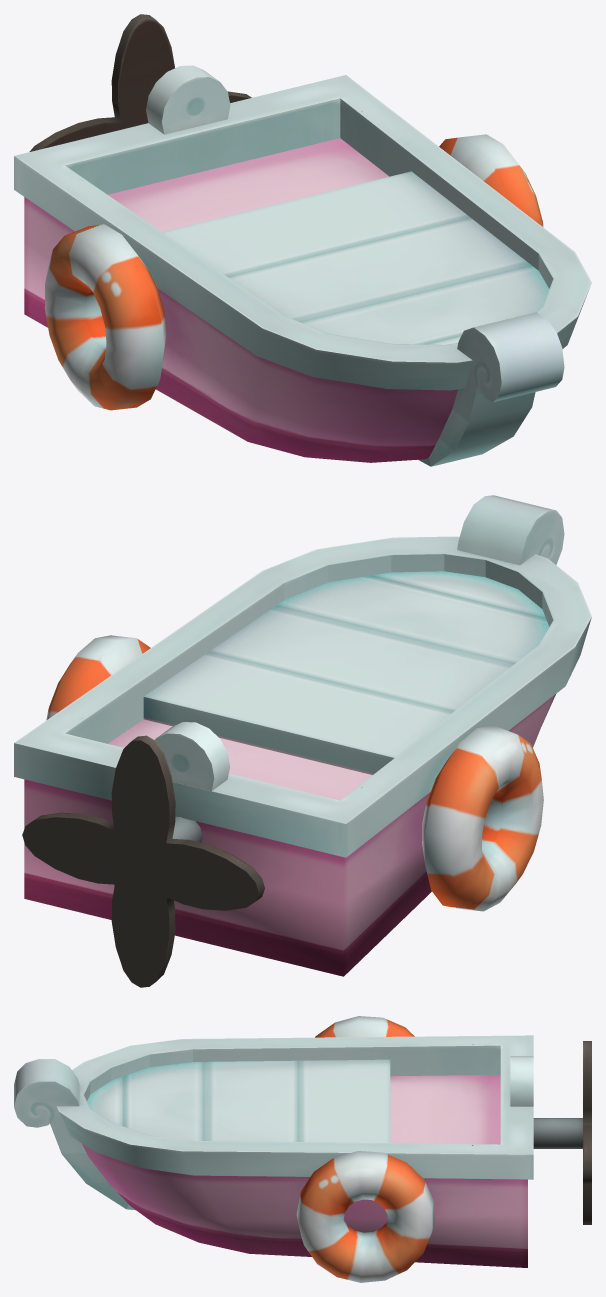
File: chuan.FBX
The picture shows the model from 3 angles, top to bottom: view 1: azimuth 30°, elevation 25°; view 2: azimuth 150°, elevation 25°; view 3: azimuth 270°, elevation 25°; orthographic projection. The views are drawn at different scales.
Parts seen in each view (by area): view 1: chuan; view 2: chuan; view 3: chuan.
Part boxes in pixels (bbox=[...]): chuan: bbox=[14, 14, 591, 466]; chuan: bbox=[14, 495, 591, 987]; chuan: bbox=[14, 1016, 591, 1282].
Bounding box in the file's own units: 28.49 × 15.76 × 45.27.
Materials: 1 (1 with a texture image).
